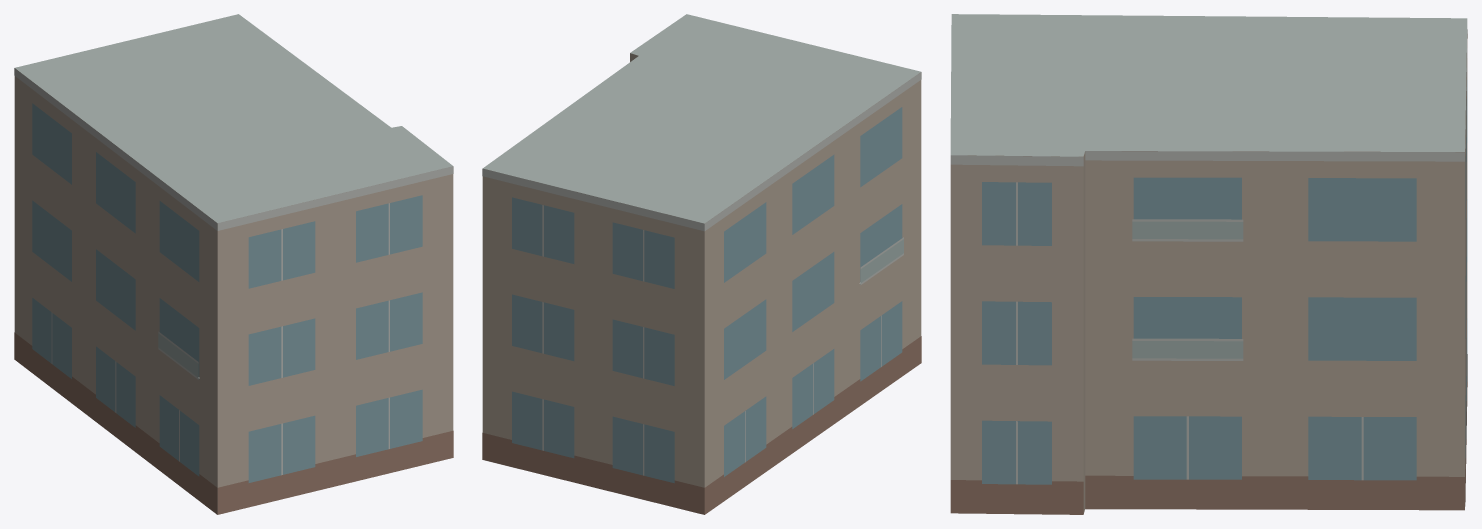
File: survey-upis-32662702.glb
3 views of the same model, side by side, from view 1: azimuth 30°, elevation 25°; view 2: azimuth 150°, elevation 25°; view 3: azimuth 270°, elevation 25° (orthographic). The views are drawn at different scales.
Parts seen in each view (by area): view 1: survey-upis-32662702.tmp; view 2: survey-upis-32662702.tmp; view 3: survey-upis-32662702.tmp.
Part boxes in pixels (<box>): survey-upis-32662702.tmp: <box>14,14,453,514</box>; survey-upis-32662702.tmp: <box>482,14,921,514</box>; survey-upis-32662702.tmp: <box>950,14,1467,514</box>.
Bounding box in the file's own units: 7.84 × 9.15 × 11.98.
